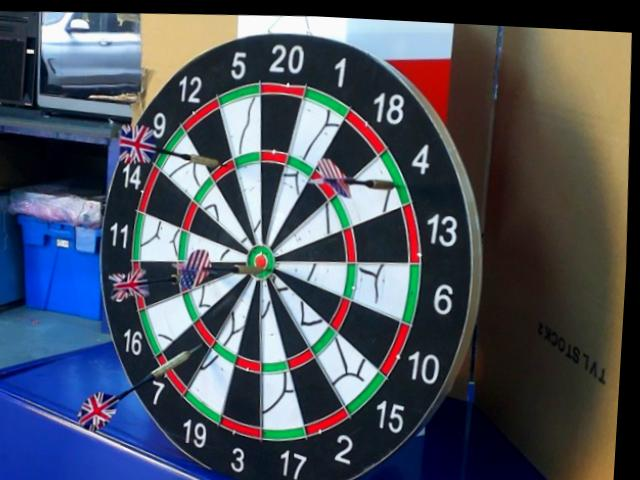bullseye: (244, 250, 275, 274)
double_12: (209, 160, 234, 179)
double_4: (380, 149, 413, 208)
single_7: (158, 328, 208, 384)
